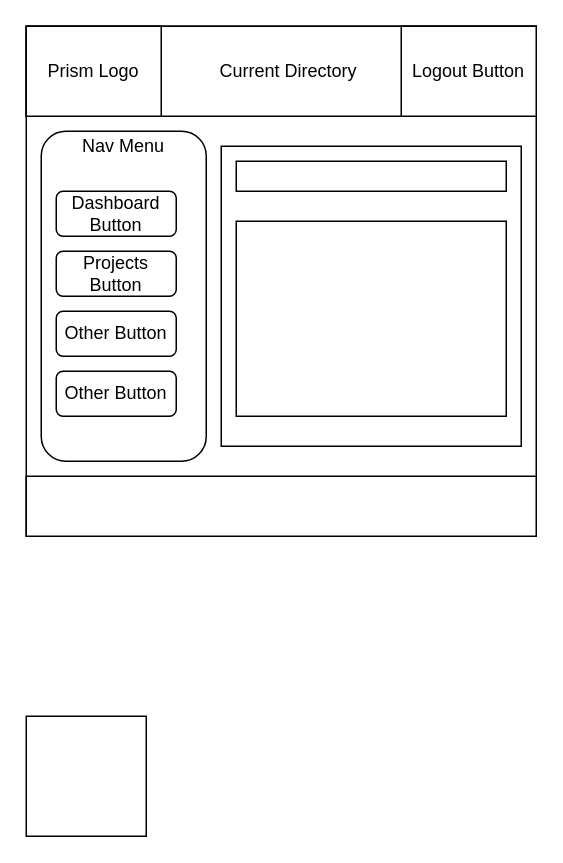
This 563x863 diagram has some shape labels left out. The shapes that lost their labels are listed below. From the top down, each one's box as (x1, y1, x2, y2) in pixels, then its label:
(235, 160, 506, 191): Welcome text
(235, 220, 506, 416): Task List
(25, 475, 536, 536): footer nav
